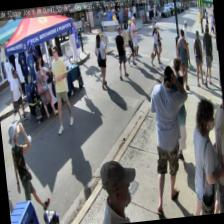person: (142, 64, 200, 215), (166, 57, 194, 160), (198, 24, 216, 86), (175, 28, 193, 88), (92, 33, 110, 89), (192, 29, 206, 87)
